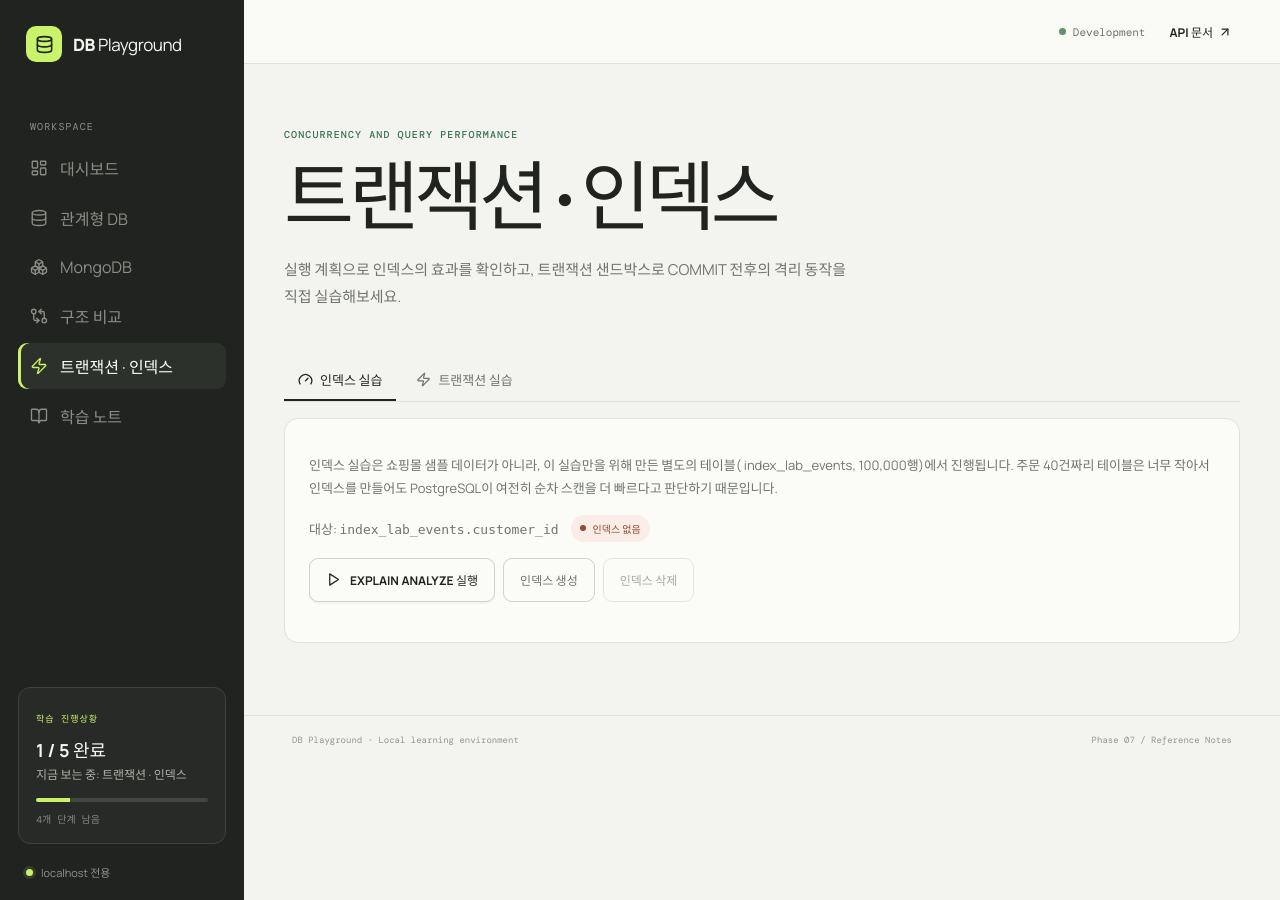
Test case: PerformancePage › starts a transaction sandbox session and shows both panes
The width and height of the screenshot is (1280, 900).
What coordinates should you click on to do the following:
click the tab "트랜잭션 실습"
I would click on:
 (465, 381)
Its box is [402,360,527,402].
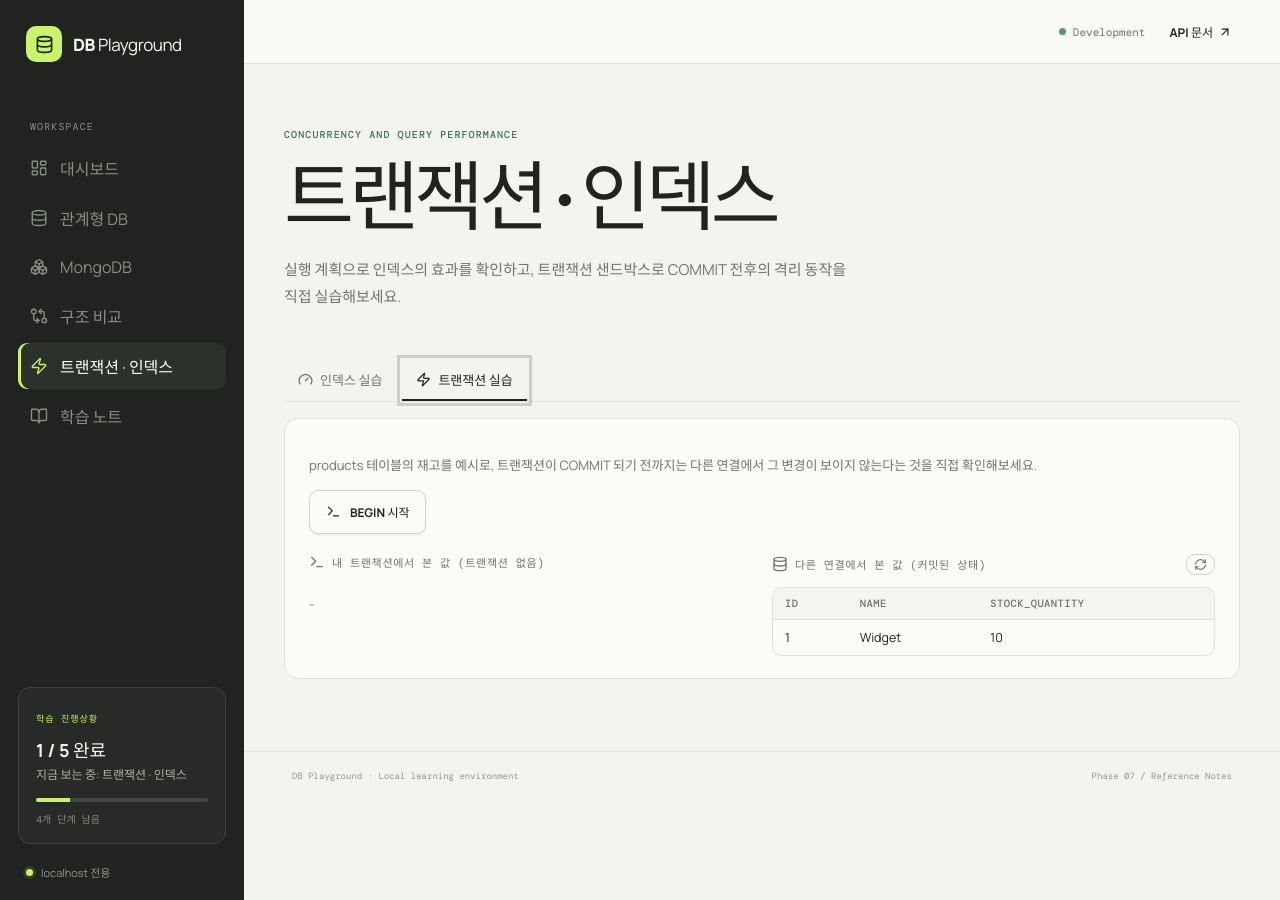
What coordinates should you click on to do the following:
click the button "BEGIN 시작"
I would click on:
 (368, 512)
Its box is [309,490,426,534].
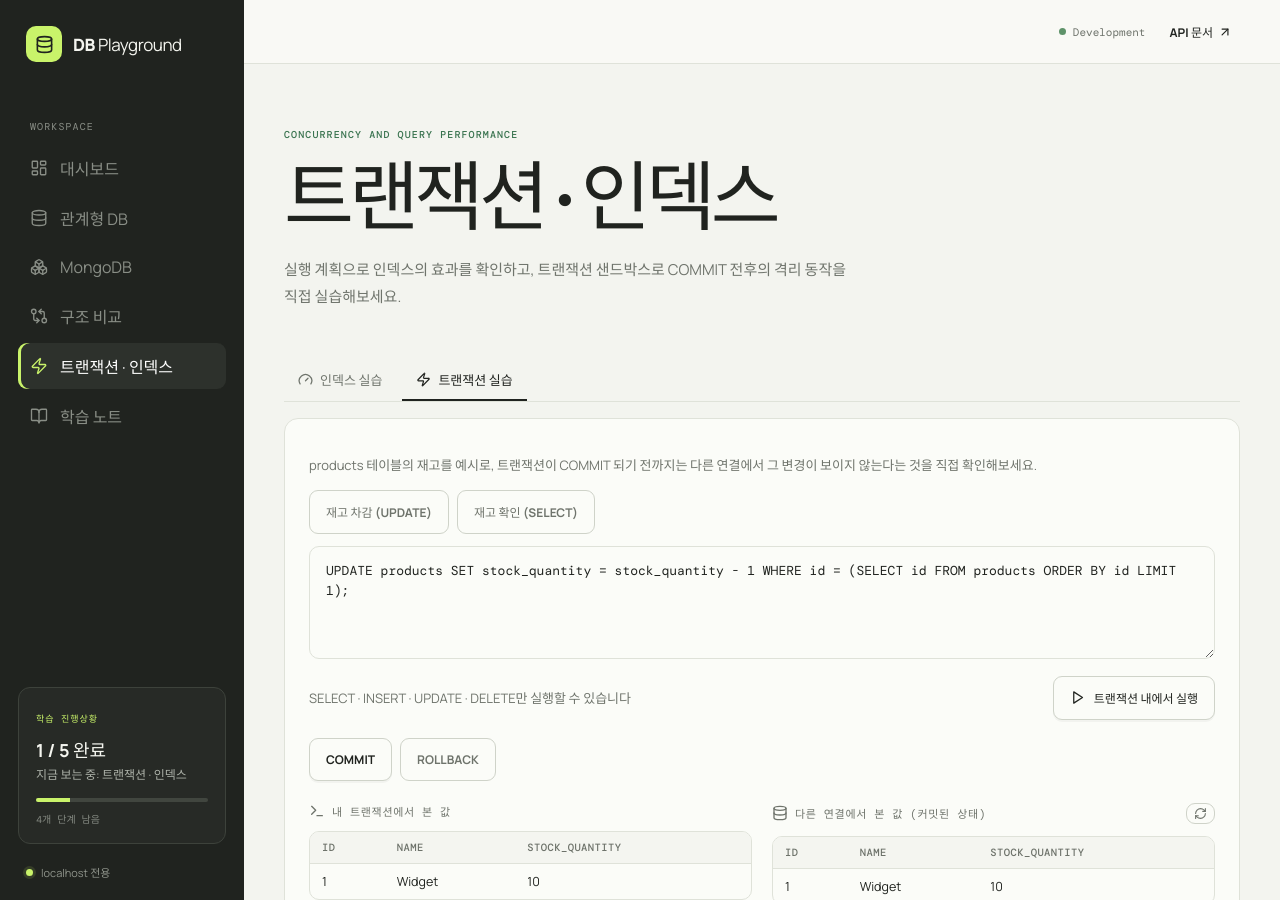
Now the text "내 트랜잭션에서 본 값" is shown, box [332,803,451,819]
Now the button "COMMIT" is shown, box [309,738,392,781]
